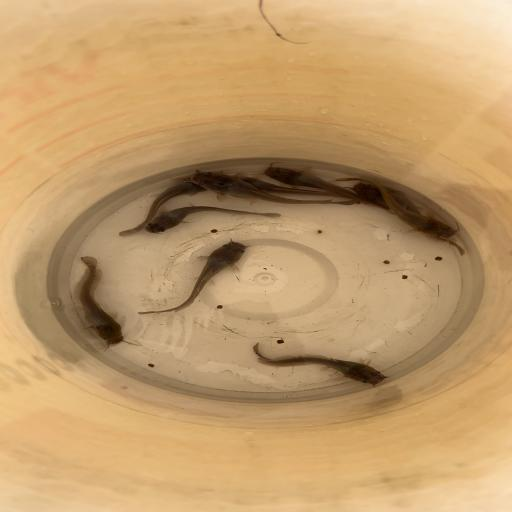lele: (135, 239, 248, 316), (351, 181, 467, 256), (334, 176, 457, 238), (245, 342, 388, 386), (186, 170, 357, 206), (263, 166, 393, 213), (72, 256, 126, 346), (118, 183, 202, 237), (144, 205, 282, 234), (241, 175, 341, 197)
